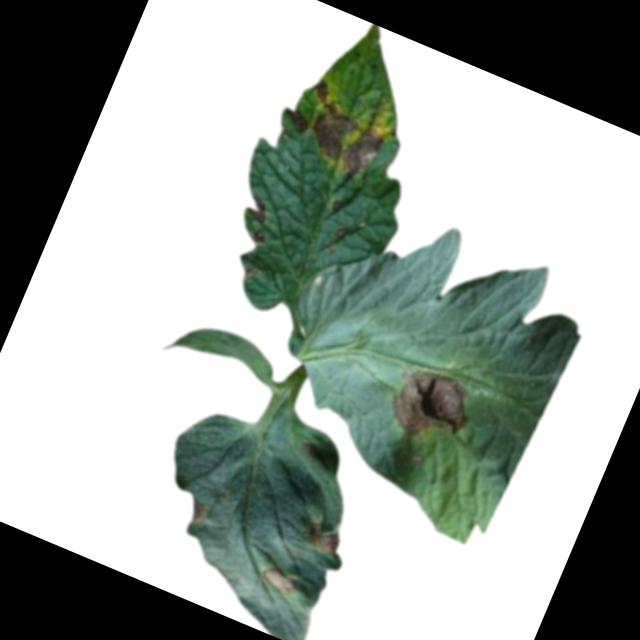Early_blight: (289, 79, 395, 182), (382, 358, 482, 453), (247, 559, 300, 600), (304, 524, 343, 561), (275, 105, 312, 142), (239, 192, 273, 226), (183, 498, 209, 525), (248, 229, 267, 247), (332, 225, 349, 243), (328, 197, 343, 212)
